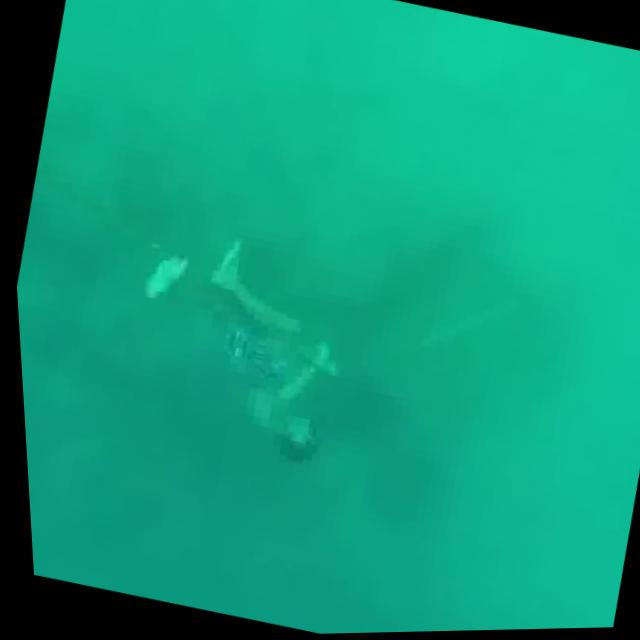human: (98, 208, 381, 488)
